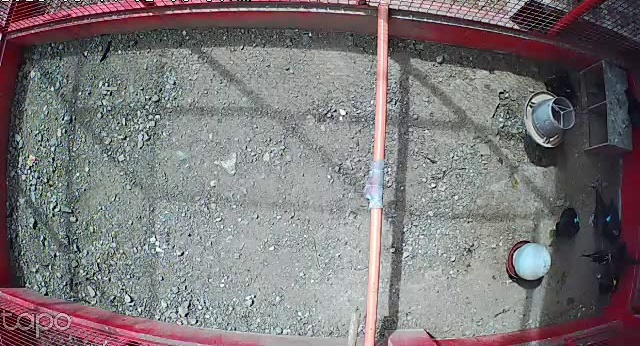Chicken: (585, 184, 620, 245), (548, 207, 583, 246), (541, 73, 581, 107), (585, 266, 627, 294), (606, 191, 627, 241)
Rooster: (573, 240, 640, 274)
Saddle_Color_Blue: (605, 215, 612, 222)
Saddle_Color_Yellow: (612, 279, 617, 286)
